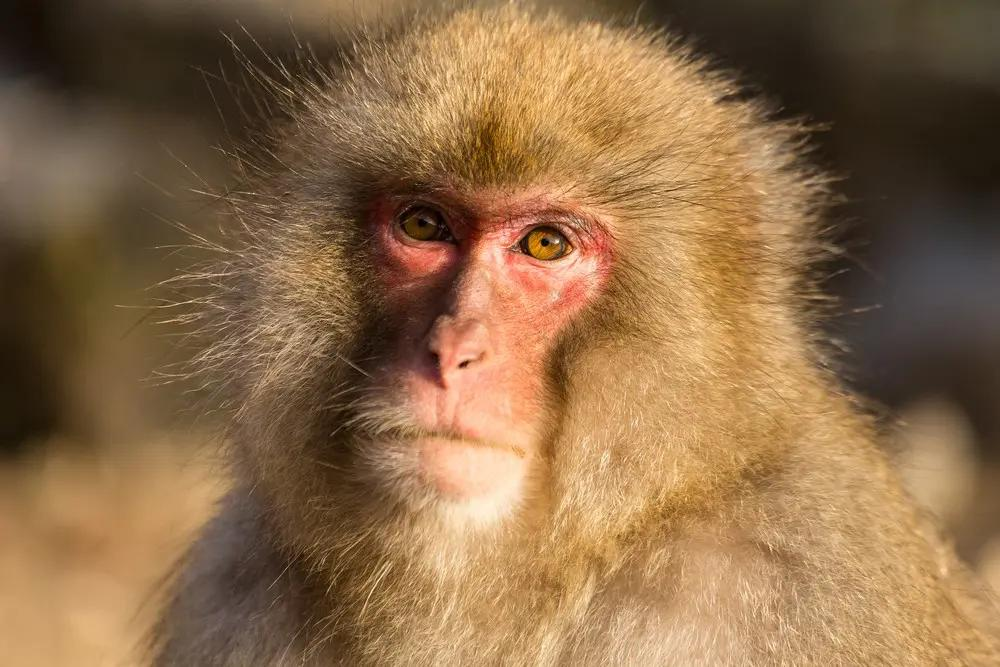Macaca fuscata: (117, 7, 1000, 667)
